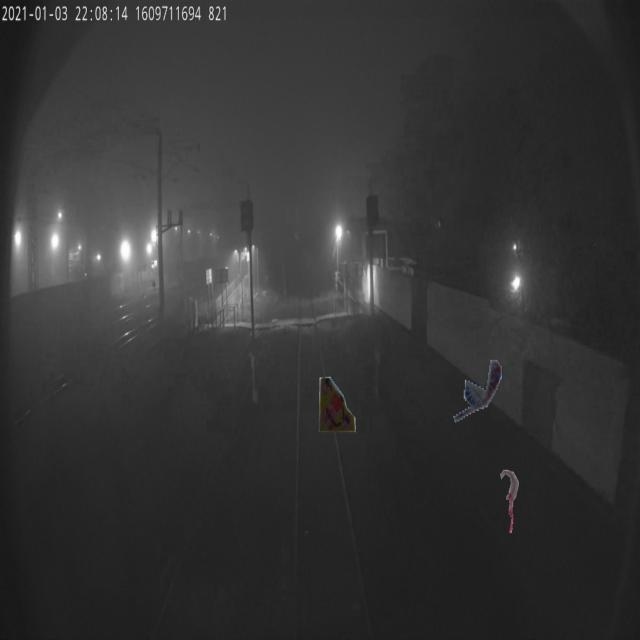floating object: (450, 358, 503, 422), (316, 372, 356, 436), (500, 468, 519, 532)
